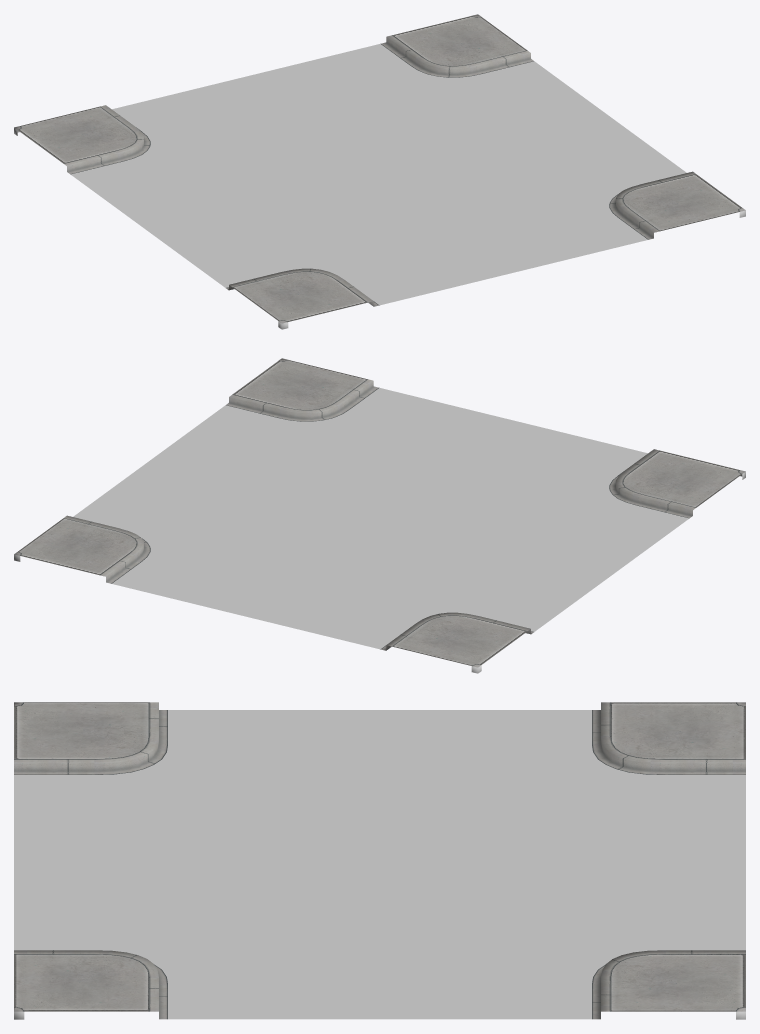
File: street.intersection.fbx
3 views of the same model, one above another, from view 1: azimuth 30°, elevation 25°; view 2: azimuth 150°, elevation 25°; view 3: azimuth 270°, elevation 25° (orthographic). The views are drawn at different scales.
Visible parts, largest first — view 1: MESH street.intersection; view 2: MESH street.intersection; view 3: MESH street.intersection.
Part boxes in pixels (box(x1,y1,x2,y2)): MESH street.intersection: box(14, 14, 745, 329); MESH street.intersection: box(14, 358, 745, 673); MESH street.intersection: box(14, 702, 745, 1019).
Size of what is drawn, in the model's own units: 1200 by 15 by 1200.
